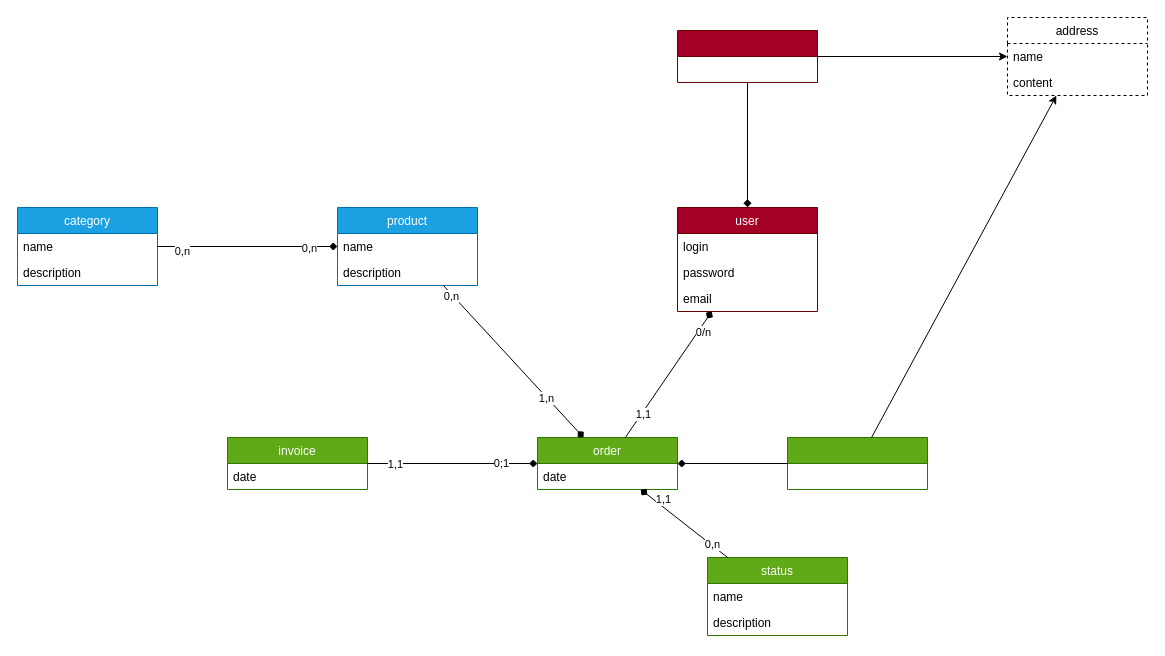
Image size: 1165x656. Some labels were removed from this diagram. The centre of each missing label's shape, as x and y in pixels:
delivery_address: the point at 857,463
user_address: the point at 747,56
